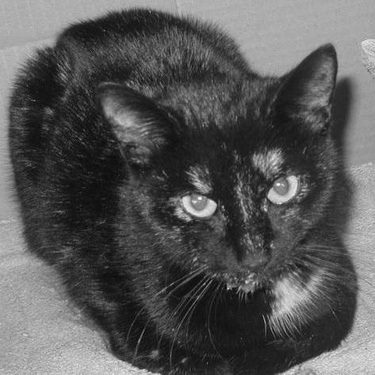cat: (6, 10, 358, 372)
